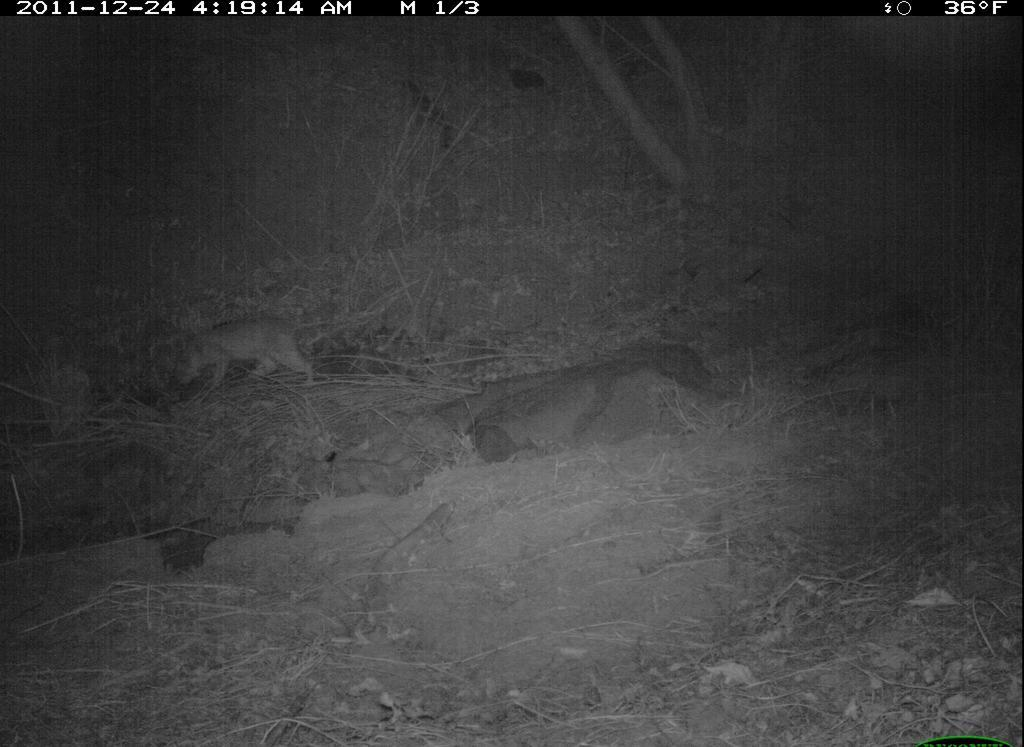bobcat: (161, 308, 330, 398)
